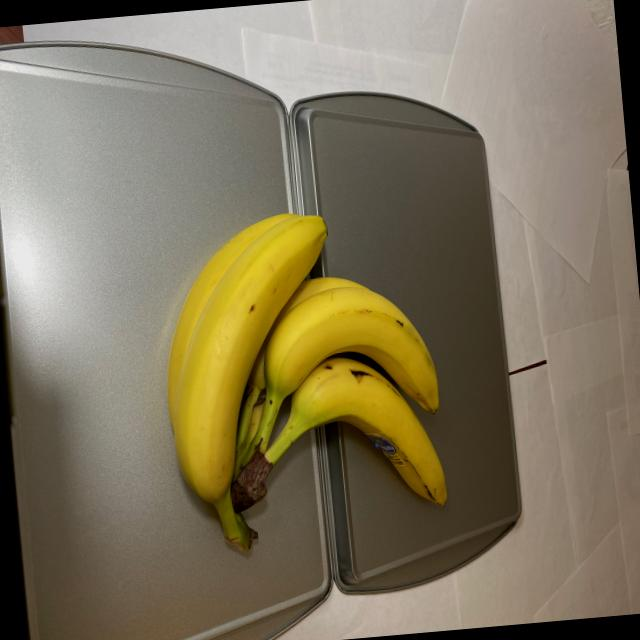banana: (154, 197, 452, 542)
